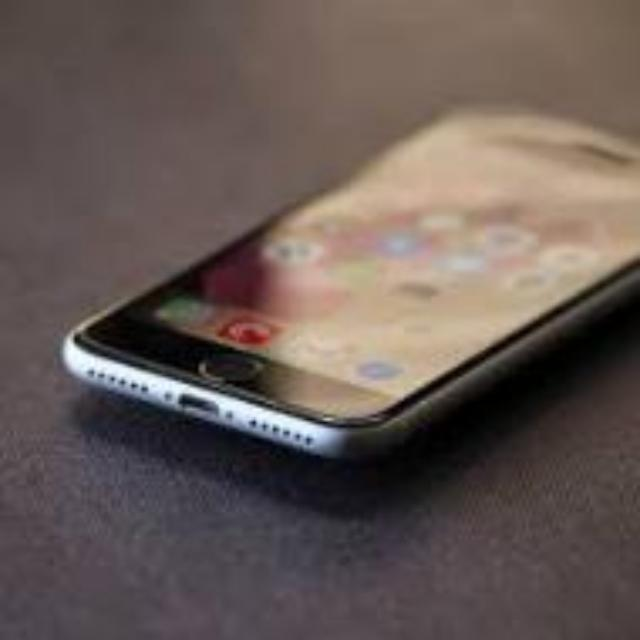phone: (35, 59, 640, 504)
